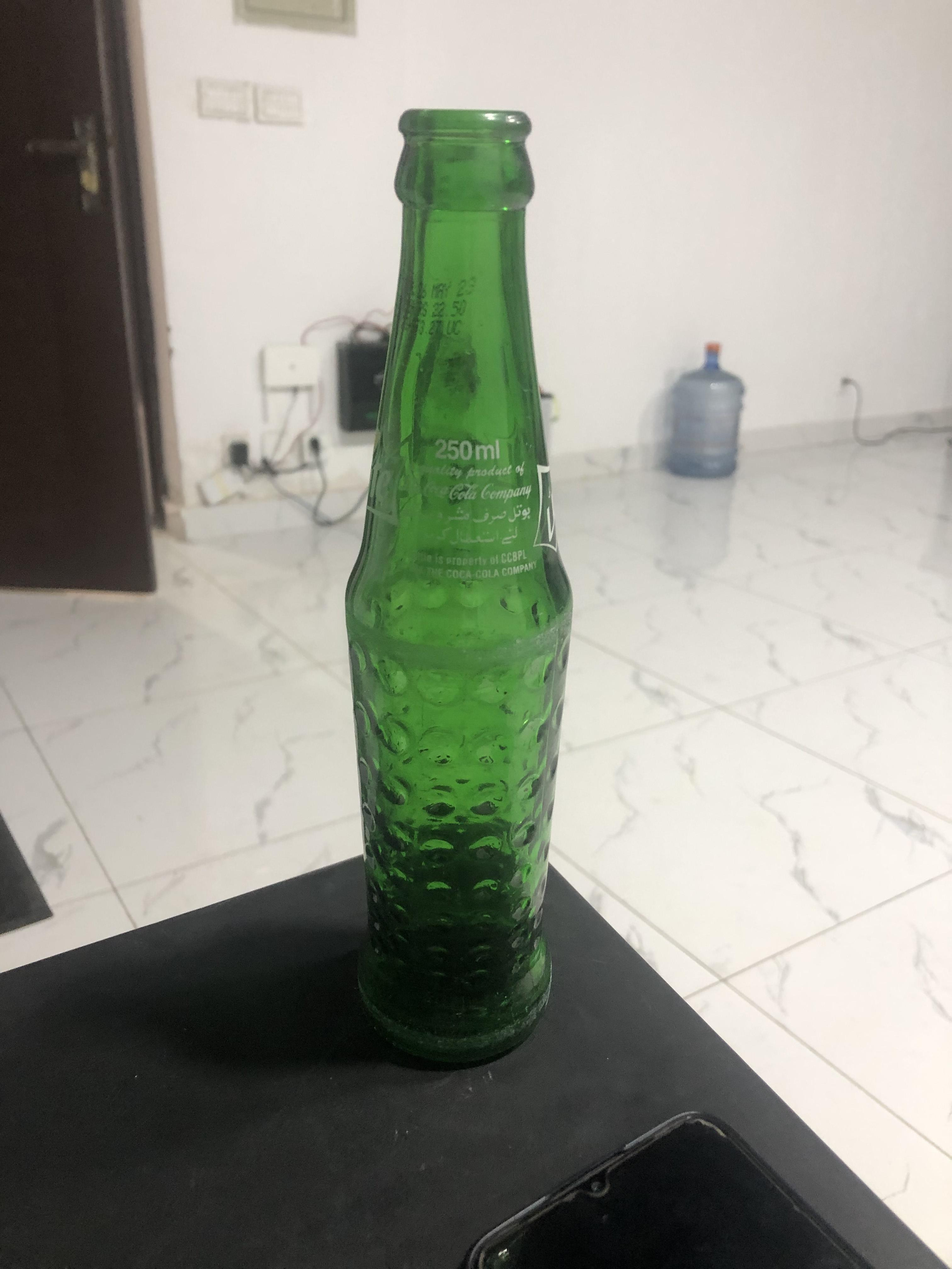bottle-glass: (341, 96, 577, 1066)
